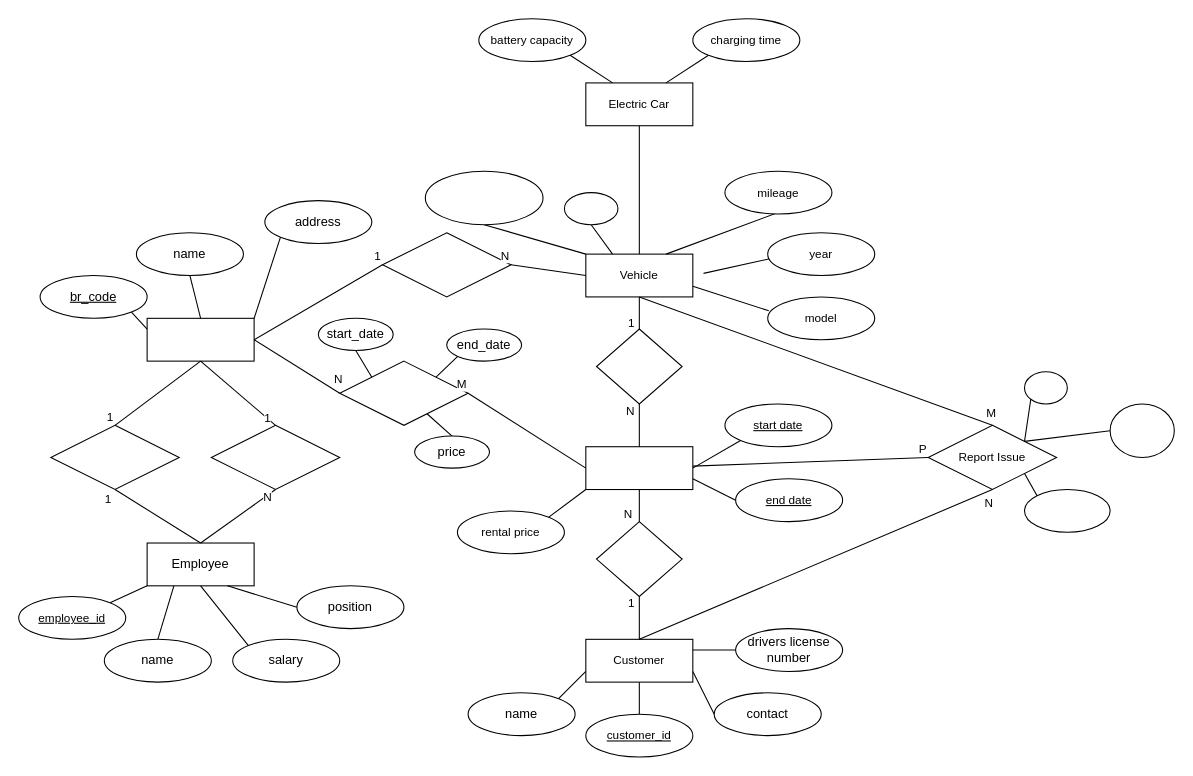
The diagram is 1193 pixels wide and 776 high, and some of its shapes have lost their labels. Here are the shapes that lost their labels. From the top down, the centre of each, then its label:
point 483,197: license plate number
point 590,208: make
point 446,264: belongs
point 200,339: Branch
point 638,366: Includes
point 403,392: hasAgreement
point 1045,387: date
point 1141,430: resolved
point 114,457: Manages
point 275,457: WorksAt
point 639,468: Rental Agreement
point 1066,510: description
point 638,559: Agreement
